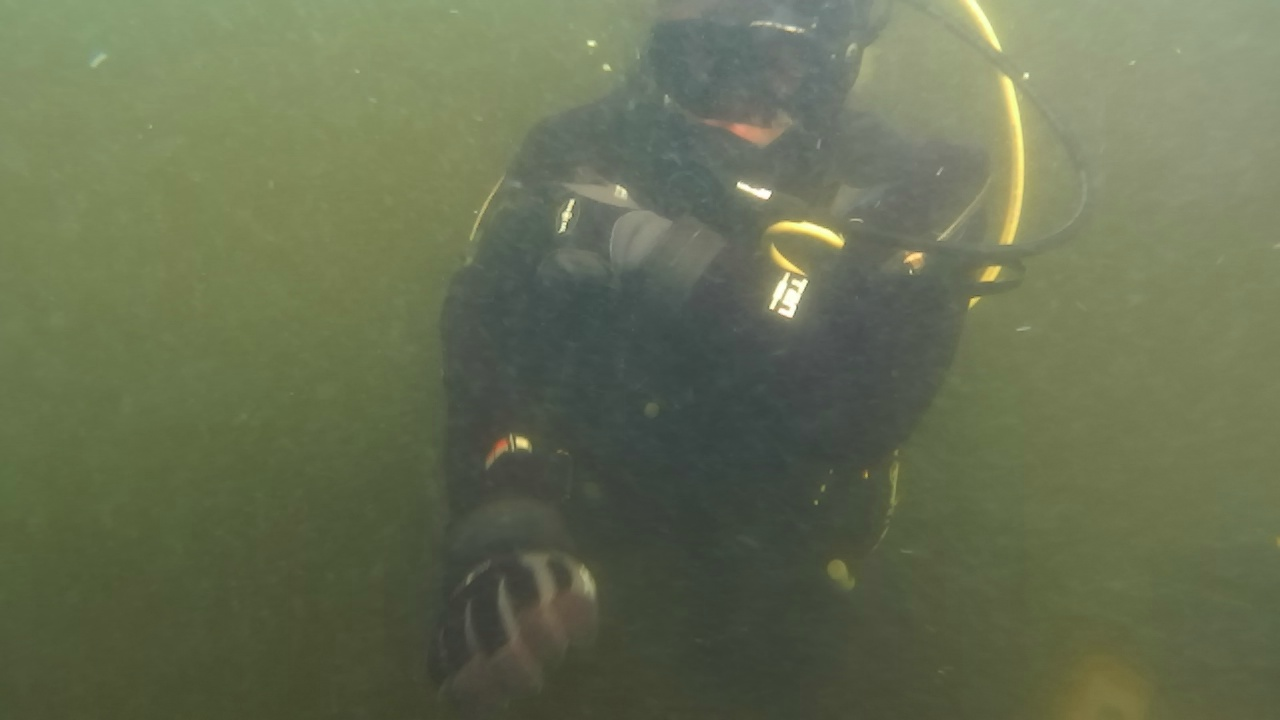Diver: (402, 6, 1052, 708)
Hand: (468, 140, 754, 334), (440, 440, 628, 688)
